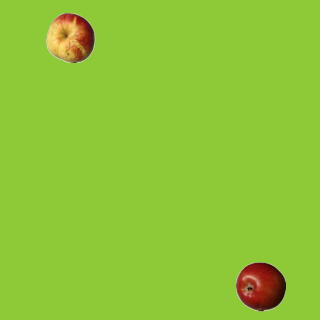Apple Braeburn: (235, 261, 285, 311)
Apple Red Yellow 1: (45, 12, 95, 62)
